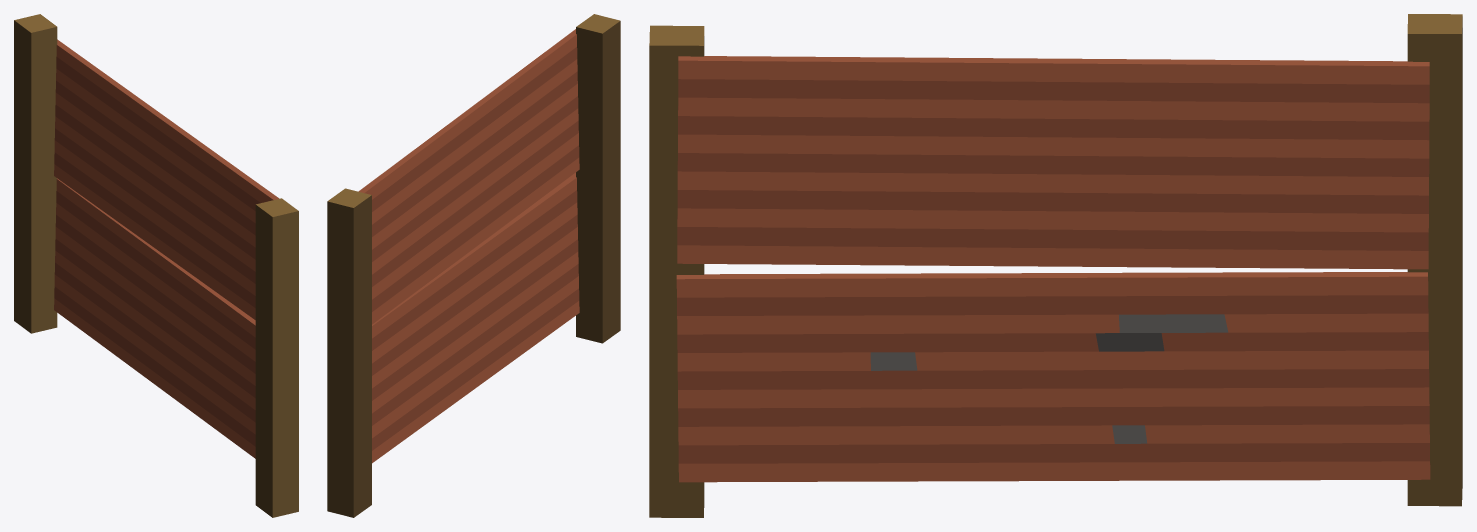
The model's file is Fence_Corrugated_Full1.fbx.
3 renders of one model, left to right at view 1: azimuth 30°, elevation 25°; view 2: azimuth 150°, elevation 25°; view 3: azimuth 270°, elevation 25°, orthographic. The views are drawn at different scales.
Visible parts, largest first — view 1: Fence_Corrugated_Full1; view 2: Fence_Corrugated_Full1; view 3: Fence_Corrugated_Full1.
Boxes of the visible parts, box(x1,y1,x2,y2) form: Fence_Corrugated_Full1: box(14, 14, 298, 517); Fence_Corrugated_Full1: box(327, 14, 620, 517); Fence_Corrugated_Full1: box(649, 14, 1462, 517).
Size of the model in its own units: 0.3401 by 4.84 by 3.18.
